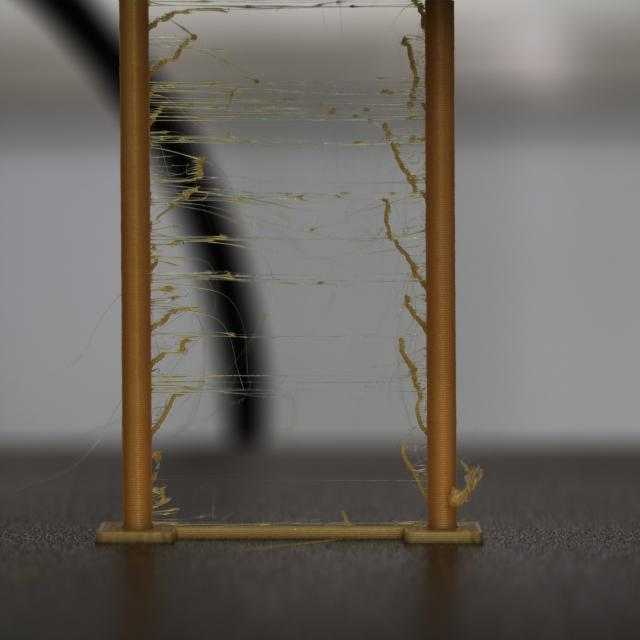Warping: (150, 0, 425, 445)
